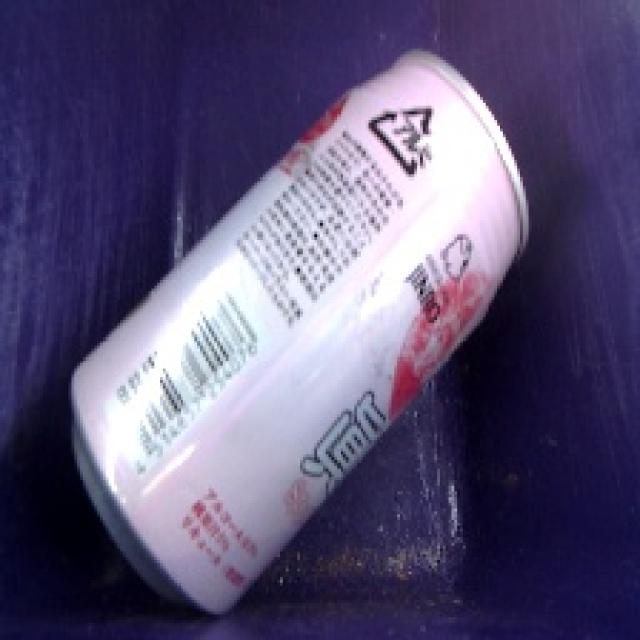metal: (34, 32, 561, 632)
